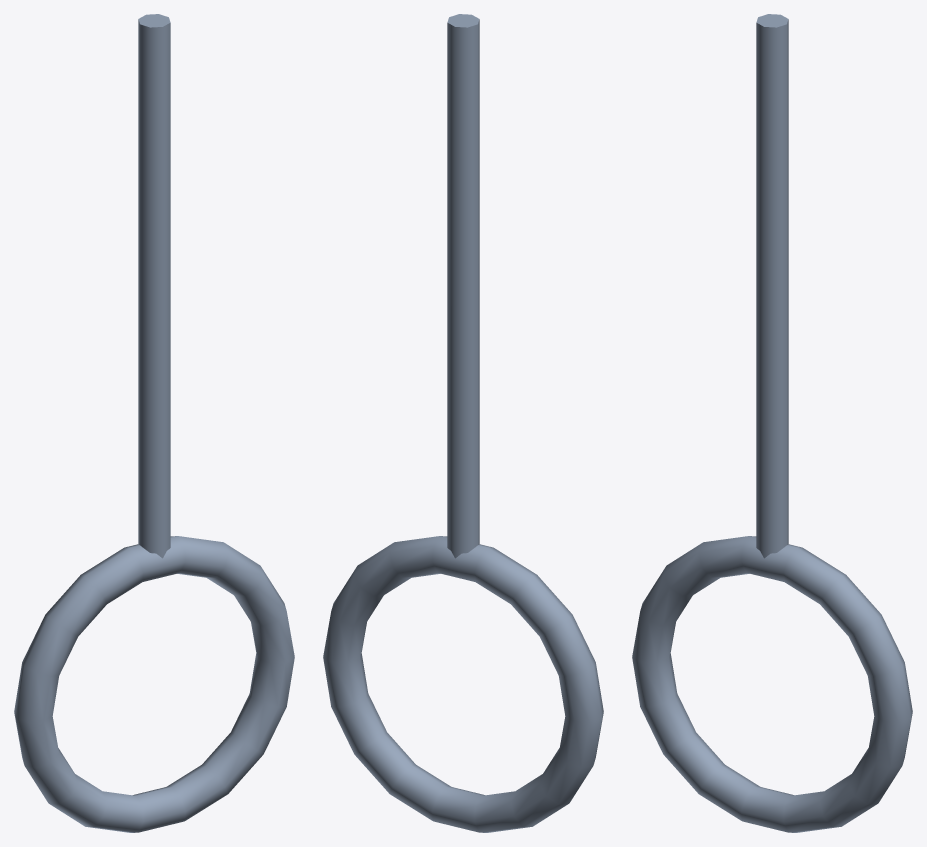
The model's file is fitting-pipe-hanger-clevis.glb.
The picture shows the model from 3 angles, left to right: view 1: azimuth 30°, elevation 25°; view 2: azimuth 150°, elevation 25°; view 3: azimuth 330°, elevation 25°; orthographic projection.
Parts seen in each view (by area): view 1: plumbing-fitting-pipe-hanger-clevis; view 2: plumbing-fitting-pipe-hanger-clevis; view 3: plumbing-fitting-pipe-hanger-clevis.
Boxes of the visible parts, box(x1,y1,x2,y2) form: plumbing-fitting-pipe-hanger-clevis: box(14, 14, 294, 832); plumbing-fitting-pipe-hanger-clevis: box(323, 14, 603, 832); plumbing-fitting-pipe-hanger-clevis: box(632, 14, 912, 832).
Size of the model in its own units: 0.096 by 0.2673 by 0.012.
